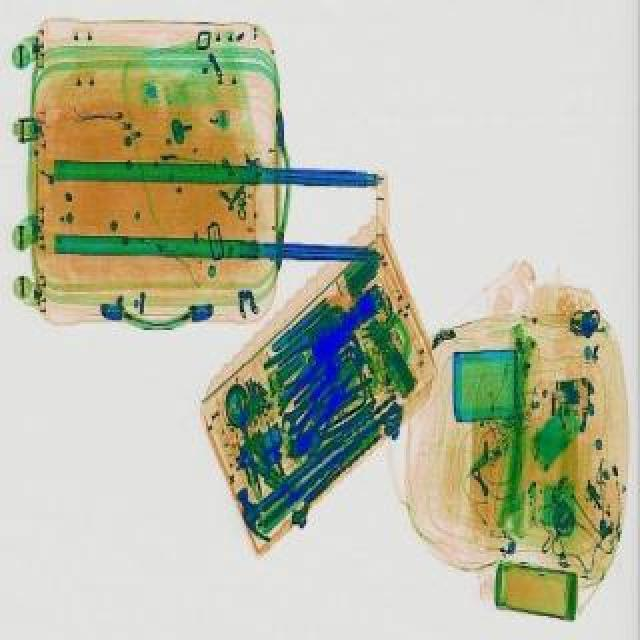scissors: (276, 362, 348, 436)
